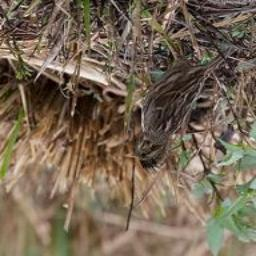Sparrow: (128, 27, 240, 175)
